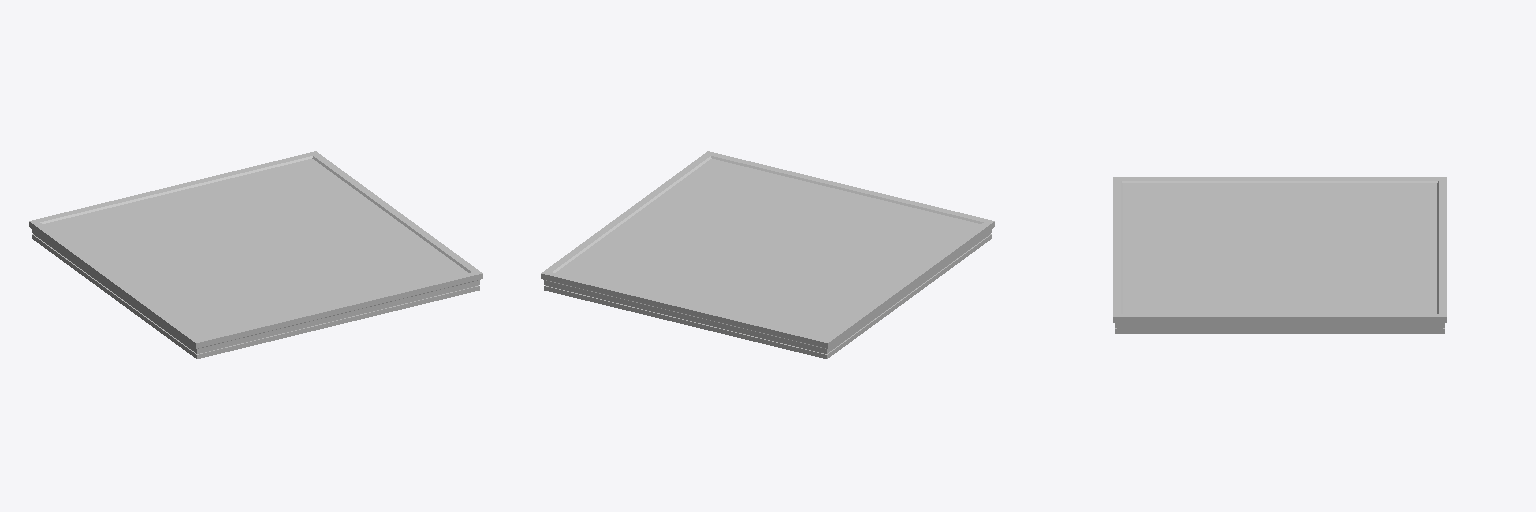
Rendered from Platform_4x4_Empty_Cube.obj.
3 views of the same model, side by side, from view 1: azimuth 30°, elevation 25°; view 2: azimuth 150°, elevation 25°; view 3: azimuth 270°, elevation 25° (orthographic).
Visible parts, largest first — view 1: Platform_4x4_Empty_Cube.001; view 2: Platform_4x4_Empty_Cube.001; view 3: Platform_4x4_Empty_Cube.001.
Boxes of the visible parts, box(x1,y1,x2,y2) form: Platform_4x4_Empty_Cube.001: box(29, 151, 482, 358); Platform_4x4_Empty_Cube.001: box(541, 151, 994, 358); Platform_4x4_Empty_Cube.001: box(1113, 177, 1446, 333).
Bounding box in the file's own units: 3.86 × 0.2243 × 3.89.